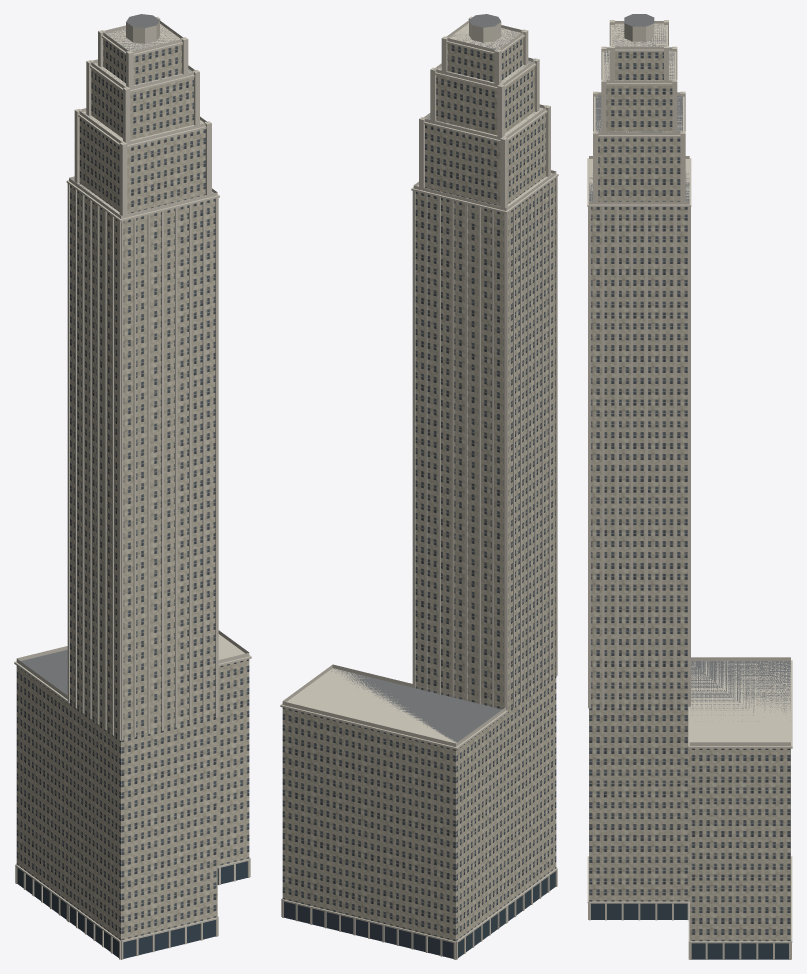
File: central_park_south_220.glb
The picture shows the model from 3 angles, left to right: view 1: azimuth 30°, elevation 25°; view 2: azimuth 150°, elevation 25°; view 3: azimuth 270°, elevation 25°; orthographic projection. The views are drawn at different scales.
Parts seen in each view (by area): view 1: central_park_south_220; view 2: central_park_south_220; view 3: central_park_south_220.
Boxes of the visible parts, <box> form: central_park_south_220: <box>14,14,251,959</box>; central_park_south_220: <box>280,14,558,959</box>; central_park_south_220: <box>587,14,792,959</box>.
Bounding box in the file's own units: 61.39 × 290 × 61.49.
2 materials, 2 textured.
